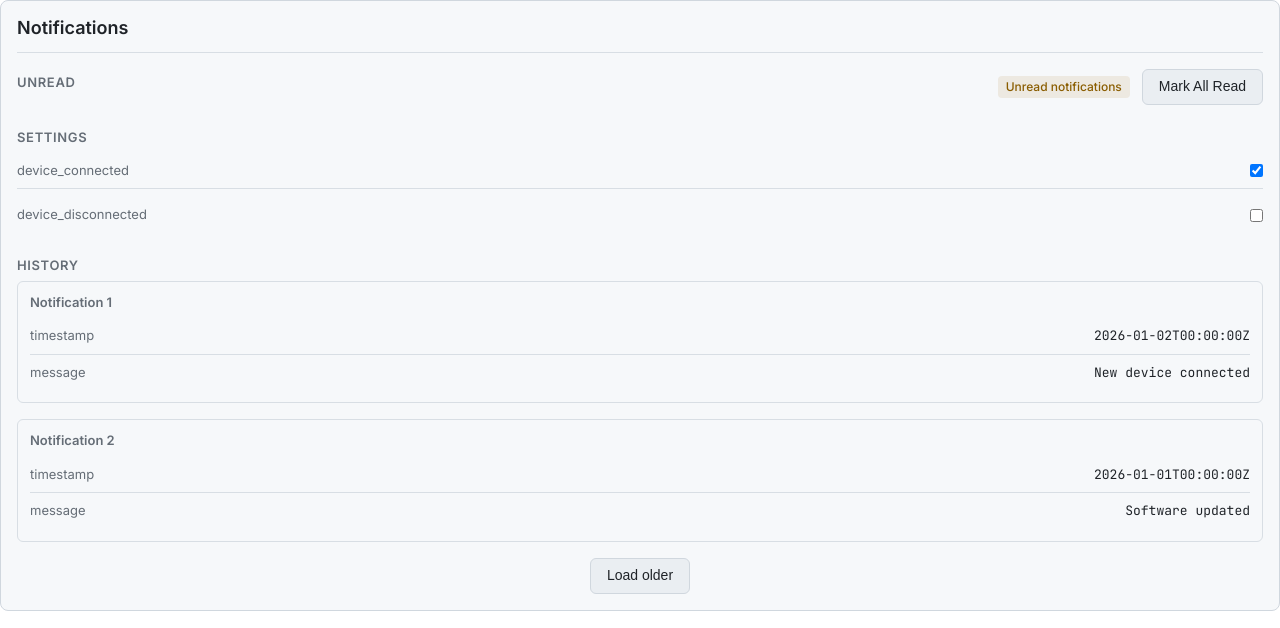
NotificationsCard › a successful toggle confirmation re-fetches and renders the read-back
Expected: the text "device_connected" is shown, [17,161,129,180]
Click the checkbox labelled "device_connected".
click(1256, 170)  # box [1250,164,1263,177]
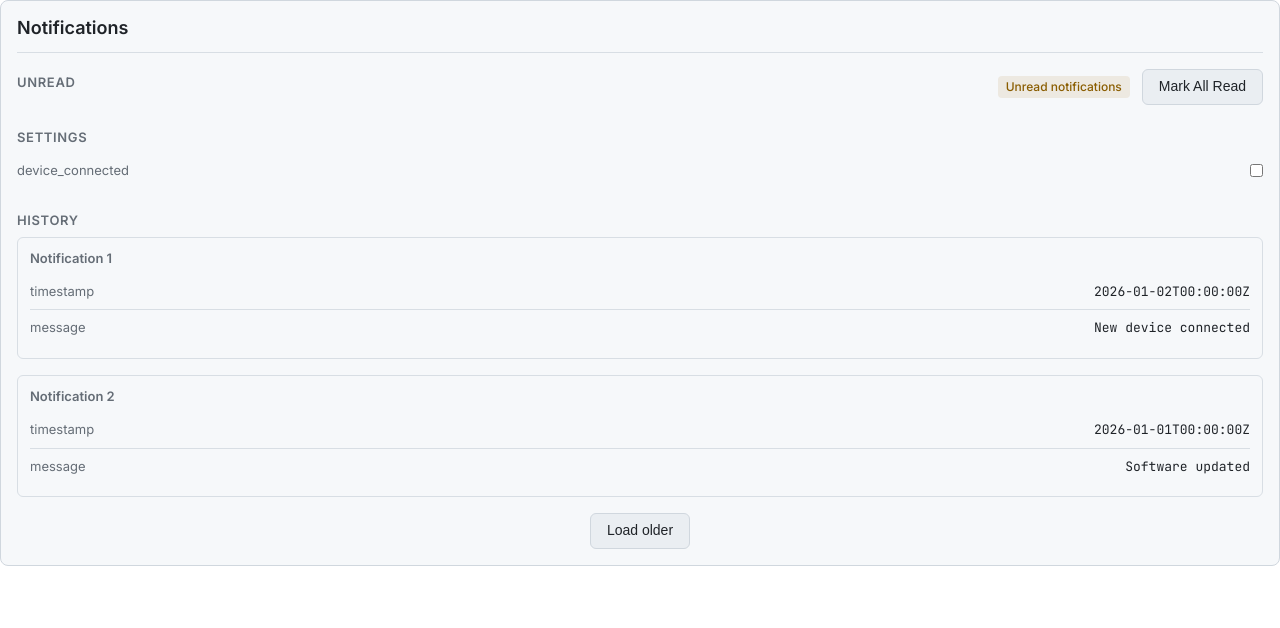
Result: the checkbox labelled "device_connected" is not checked at [1250,164,1263,177]
